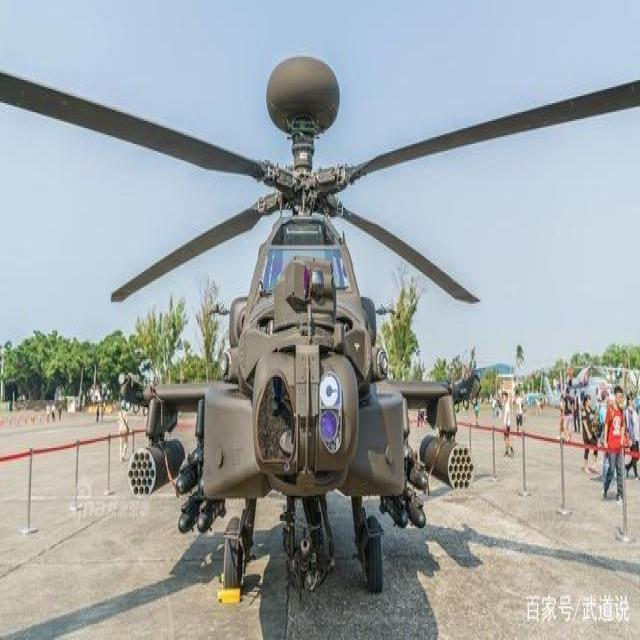MIL_HELO: (0, 16, 634, 586)
